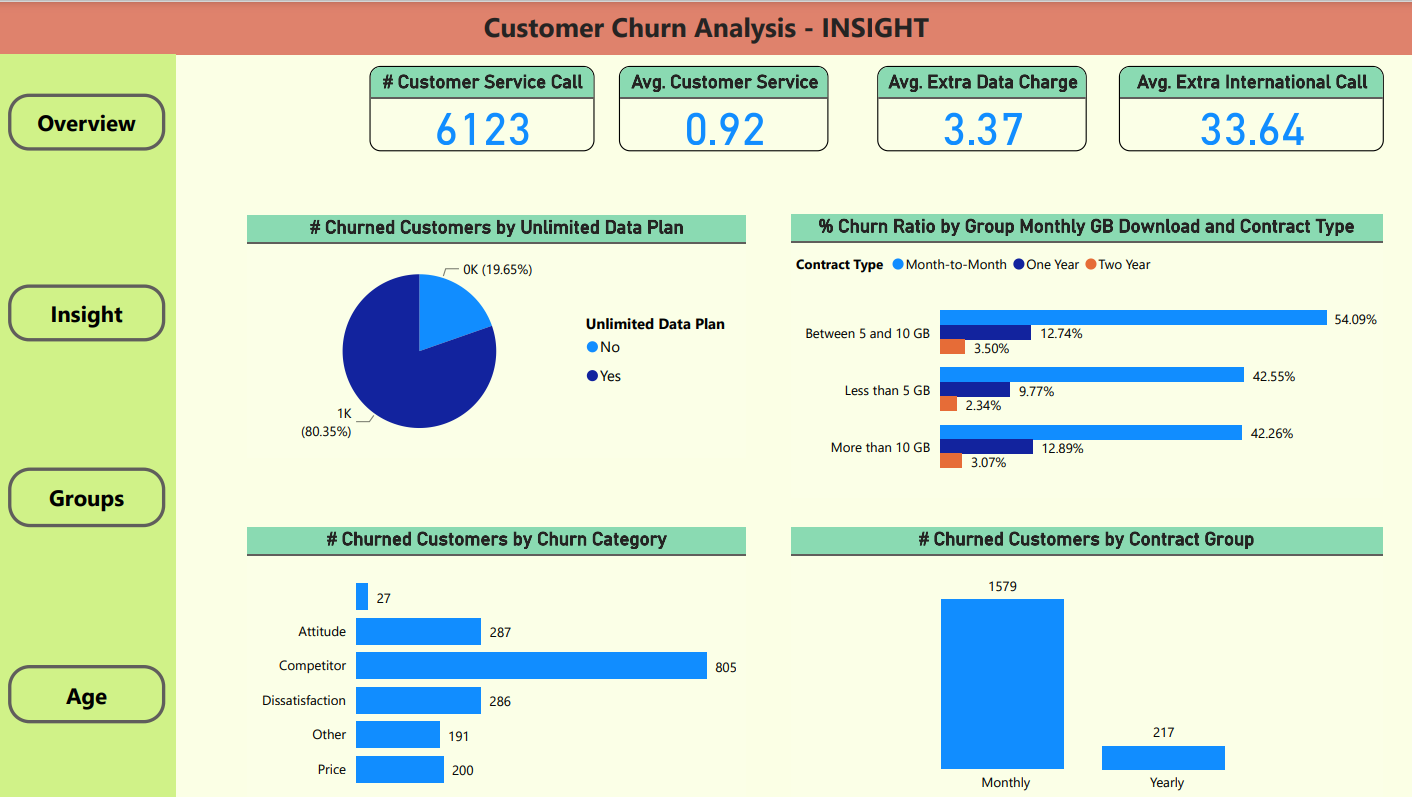

The page's visual inventory and layout, read from the dashboard file:
{"tool":"powerbi","page":{"name":"Insight","canvas":[1280,720],"ordinal":1},"visuals":[{"type":"card","title":"Avg. Customer Service","fields":{"Values":["_DAX_Measures.Avg. Customer Service"]},"box":[560.8,56.7,189.3,77.2],"z":0},{"type":"card","title":"# Customer Service Call","fields":{"Values":["_DAX_Measures.Avg. Customer Service Call Duration"]},"box":[336.5,56.7,202.6,77.2],"z":1000},{"type":"card","title":"Avg. Extra Data Charge","fields":{"Values":["_DAX_Measures.Avg. Extra Data Charge"]},"box":[793.6,56.7,189.3,77.2],"z":2000},{"type":"card","title":"Avg. Extra International Call","fields":{"Values":["_DAX_Measures.Avg. Extra International Call"]},"box":[1011.9,56.7,238.8,77.2],"z":3000},{"type":"textbox","box":[0,0,1280.3,46.7],"z":4000},{"type":"textbox","box":[0,46.5,161.4,673.5],"z":5000},{"type":"clusteredBarChart","fields":{"Y":["_DAX_Measures.# Churned Customers"],"Category":["Churn Data.Churn Category"]},"box":[226.4,473.4,450.1,247],"z":6000},{"type":"clusteredBarChart","fields":{"Y":["_DAX_Measures.% Churn Ratio"],"Category":["Churn Data.Group Monthly GB Download"],"Series":["Churn Data.Contract Type"]},"box":[716.3,190.7,533.8,255.2],"z":7000},{"type":"pieChart","fields":{"Y":["_DAX_Measures.# Churned Customers"],"Category":["Churn Data.Unlimited Data Plan"]},"box":[226.4,192.1,450.1,218.2],"z":8000},{"type":"clusteredColumnChart","fields":{"Y":["_DAX_Measures.# Churned Customers"],"Category":["Churn Data.Contract Group"]},"box":[716.3,473.4,533.8,247],"z":9000},{"type":"actionButton","box":[9.8,81.9,141.8,51.3],"z":10000},{"type":"actionButton","box":[9.8,254.3,141.8,51.3],"z":11000},{"type":"actionButton","box":[9.8,596.5,141.8,52.6],"z":12000},{"type":"actionButton","box":[9.8,419.3,141.8,53.8],"z":13000}]}

Visuals, with their boxes in screenshot pixels (x1, y1, x2, y2), scaled from the page's 1280x720 canvas onto the 1412x797 screenshot:
"Avg. Customer Service" card: bbox=(619, 63, 827, 148)
"# Customer Service Call" card: bbox=(371, 63, 595, 148)
"Avg. Extra Data Charge" card: bbox=(875, 63, 1084, 148)
"Avg. Extra International Call" card: bbox=(1116, 63, 1380, 148)
textbox: bbox=(0, 0, 1411, 52)
textbox: bbox=(0, 51, 178, 796)
clusteredBarChart - _DAX_Measures.# Churned Customers x Churn Data.Churn Category: bbox=(250, 524, 746, 796)
clusteredBarChart - _DAX_Measures.% Churn Ratio x Churn Data.Group Monthly GB Download: bbox=(790, 211, 1379, 494)
pieChart - _DAX_Measures.# Churned Customers x Churn Data.Unlimited Data Plan: bbox=(250, 213, 746, 454)
clusteredColumnChart - _DAX_Measures.# Churned Customers x Churn Data.Contract Group: bbox=(790, 524, 1379, 796)
actionButton: bbox=(11, 91, 167, 147)
actionButton: bbox=(11, 281, 167, 338)
actionButton: bbox=(11, 660, 167, 719)
actionButton: bbox=(11, 464, 167, 524)
